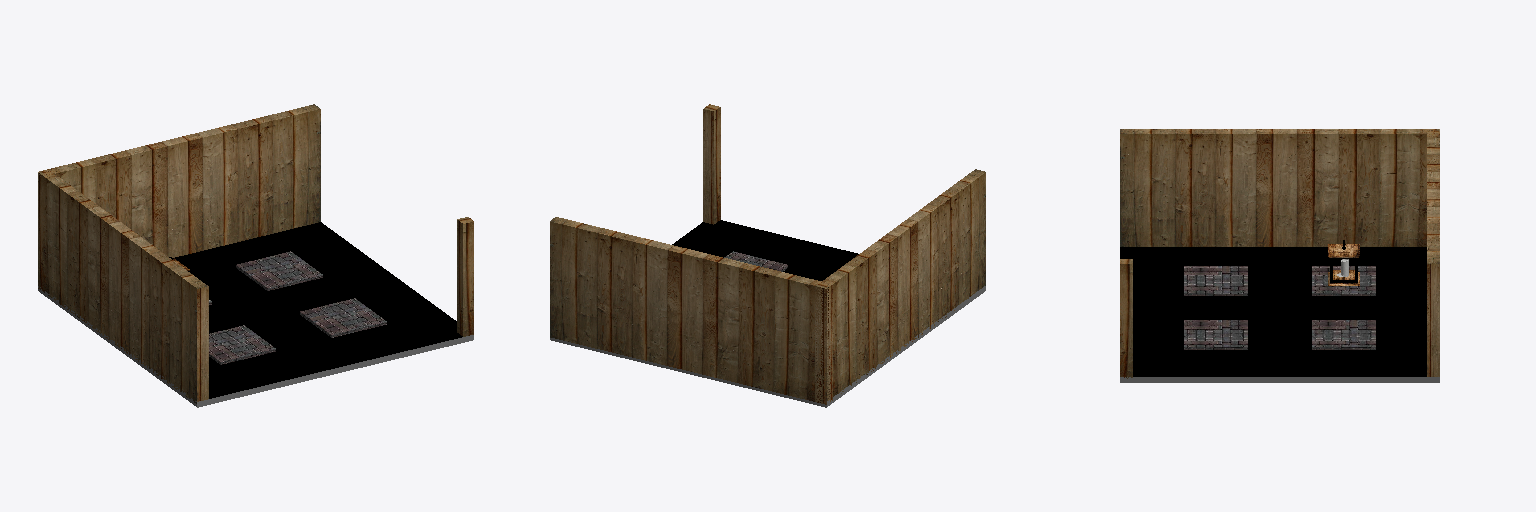
3 renders of one model, left to right at view 1: azimuth 30°, elevation 25°; view 2: azimuth 150°, elevation 25°; view 3: azimuth 270°, elevation 25°, orthographic.
Visible parts, largest first — view 1: Holz_Ecke_Licht; view 2: Holz_Ecke_Licht; view 3: Holz_Ecke_Licht.
Part boxes in pixels (left/top/right/bottom): Holz_Ecke_Licht: left=38, top=104, right=473, bottom=407; Holz_Ecke_Licht: left=550, top=104, right=985, bottom=407; Holz_Ecke_Licht: left=1120, top=129, right=1439, bottom=382.
Size of the model in its own units: 5 by 2.05 by 5.
Materials: 30 (3 with a texture image).